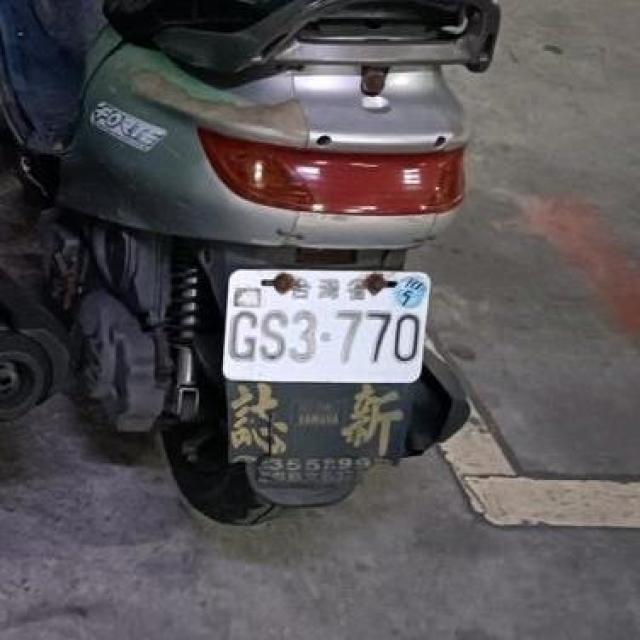W: (211, 254, 432, 392)
